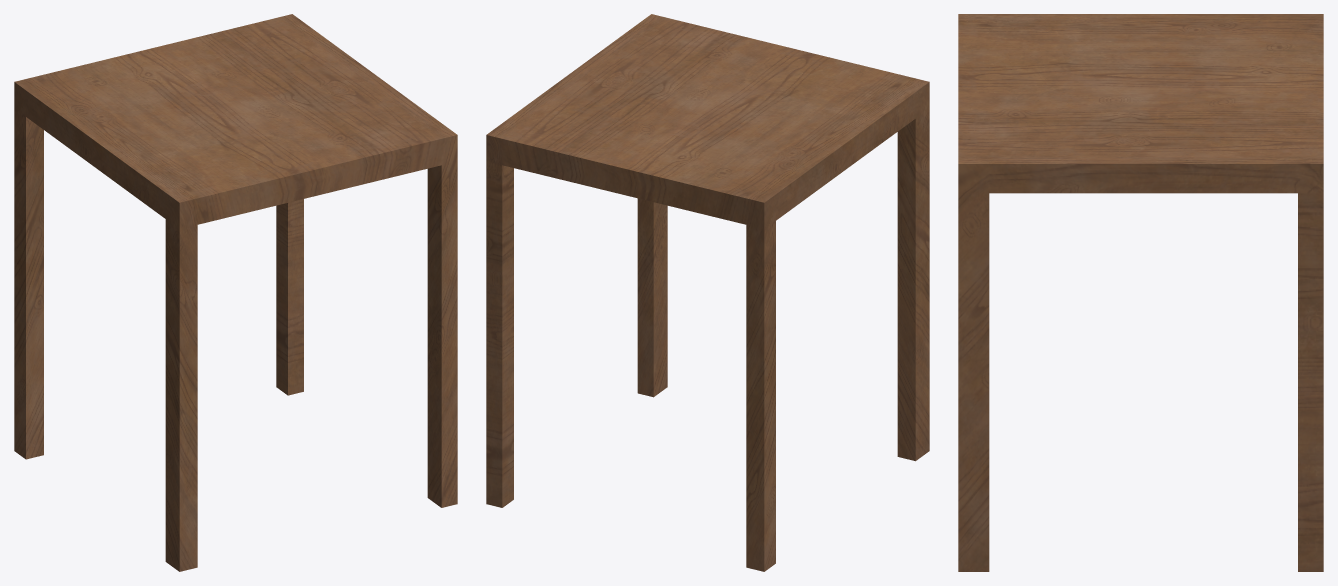
The model's file is mesita_noche.fbx.
3 views of the same model, side by side, from view 1: azimuth 30°, elevation 25°; view 2: azimuth 150°, elevation 25°; view 3: azimuth 270°, elevation 25° (orthographic). The views are drawn at different scales.
Parts seen in each view (by area): view 1: mesita_noche; view 2: mesita_noche; view 3: mesita_noche.
Part boxes in pixels (x1=…): mesita_noche: x1=14, y1=14, x2=457, y2=571; mesita_noche: x1=486, y1=14, x2=929, y2=571; mesita_noche: x1=958, y1=14, x2=1323, y2=571.
Bounding box in the file's own units: 116 × 147 × 119.
